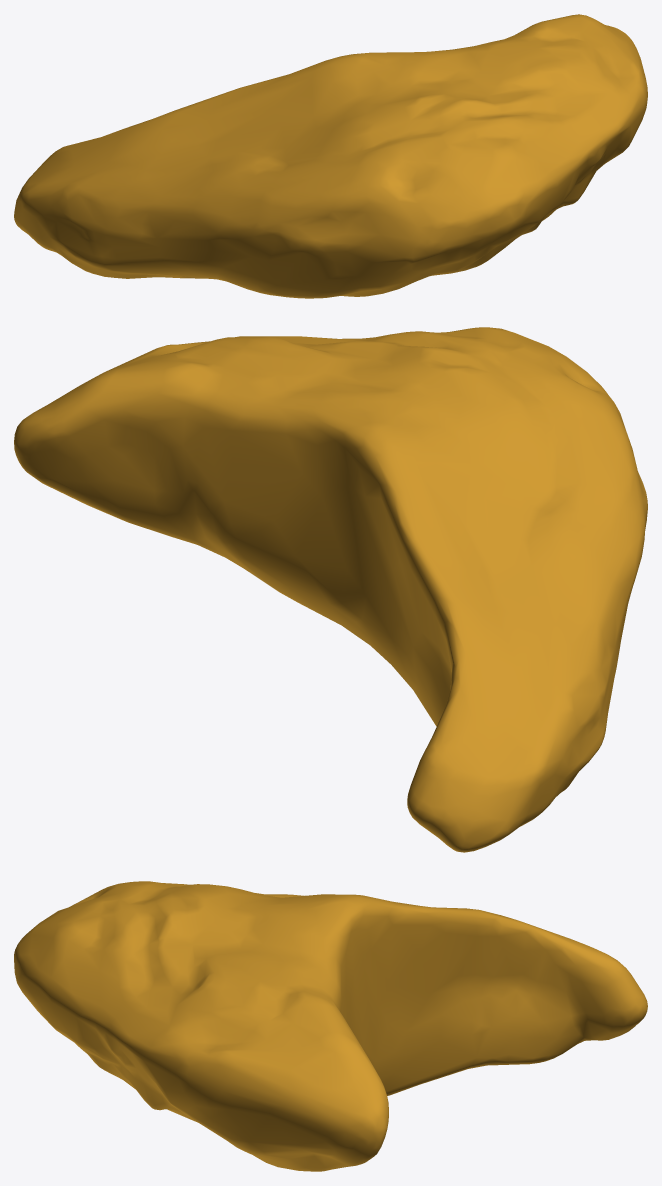
3 renders of one model, top to bottom at view 1: azimuth 30°, elevation 25°; view 2: azimuth 150°, elevation 25°; view 3: azimuth 270°, elevation 25°, orthographic. The views are drawn at different scales.
Parts seen in each view (by area): view 1: 左侧肾上腺; view 2: 左侧肾上腺; view 3: 左侧肾上腺.
Part boxes in pixels (left/top/right/bottom): 左侧肾上腺: left=14, top=14, right=647, bottom=298; 左侧肾上腺: left=14, top=327, right=647, bottom=852; 左侧肾上腺: left=14, top=881, right=647, bottom=1171.
Bounding box in the file's own units: 0.071 × 0.0297 × 0.0661.
